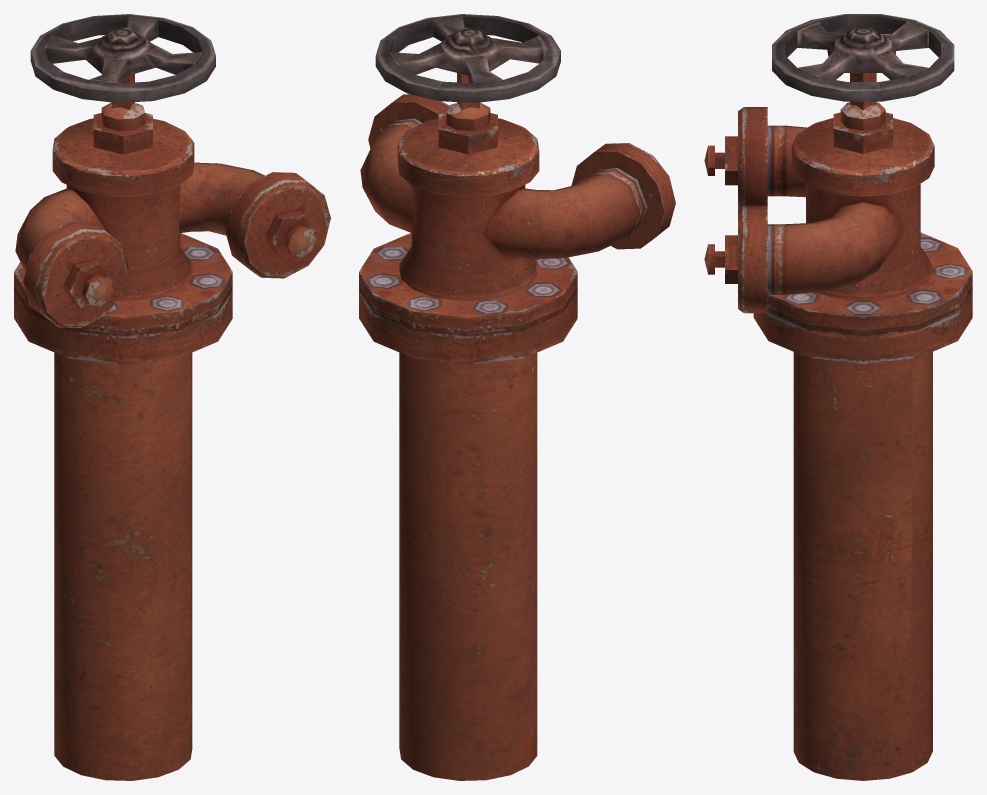
File: Fire_hydrant.FBX
3 views of the same model, side by side, from view 1: azimuth 30°, elevation 25°; view 2: azimuth 150°, elevation 25°; view 3: azimuth 270°, elevation 25° (orthographic).
Parts seen in each view (by area): view 1: Fire_hydrant; view 2: Fire_hydrant; view 3: Fire_hydrant.
Boxes of the visible parts, x1,y1,x2,y2 form: Fire_hydrant: [14, 14, 330, 780]; Fire_hydrant: [359, 14, 675, 780]; Fire_hydrant: [704, 14, 972, 780].
Size of the model in its own units: 37.44 by 29.36 by 86.94.
Materials: 1 (1 with a texture image).
